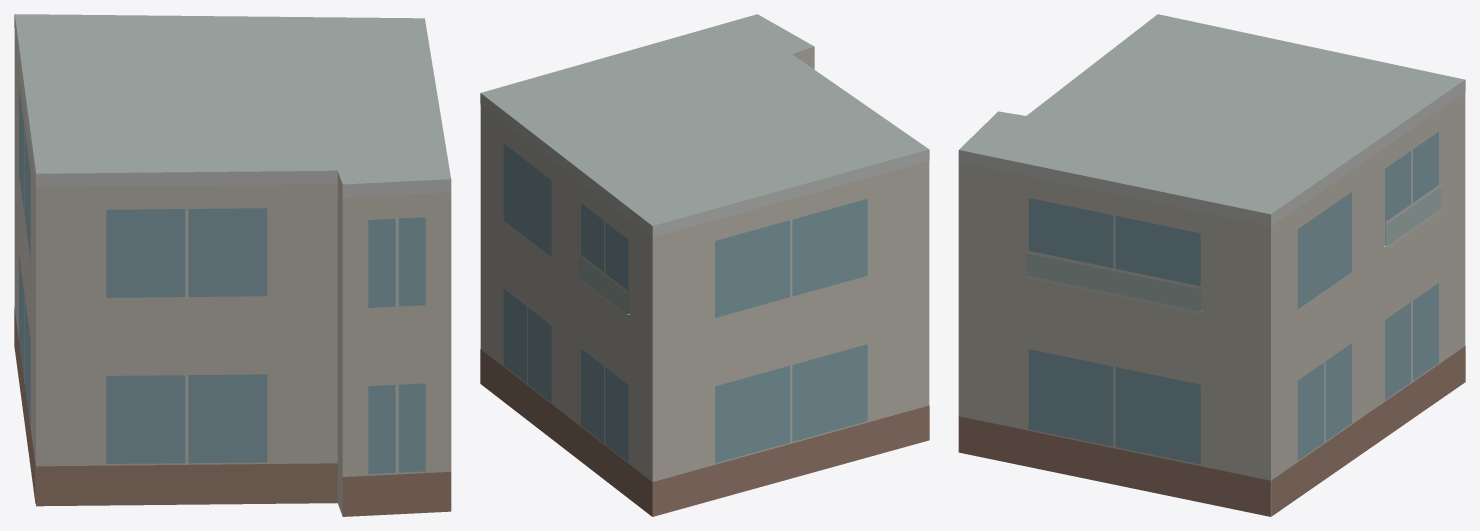
Rendered from survey-upis-32489254.glb.
3 renders of one model, left to right at view 1: azimuth 30°, elevation 25°; view 2: azimuth 150°, elevation 25°; view 3: azimuth 270°, elevation 25°, orthographic. The views are drawn at different scales.
Visible parts, largest first — view 1: survey-upis-32489254.tmp; view 2: survey-upis-32489254.tmp; view 3: survey-upis-32489254.tmp.
Part boxes in pixels (x1,y1,x2,y2): survey-upis-32489254.tmp: [14, 14, 451, 516]; survey-upis-32489254.tmp: [480, 14, 929, 516]; survey-upis-32489254.tmp: [958, 14, 1465, 516].
Bounding box in the file's own units: 8.67 × 6.1 × 9.27.
